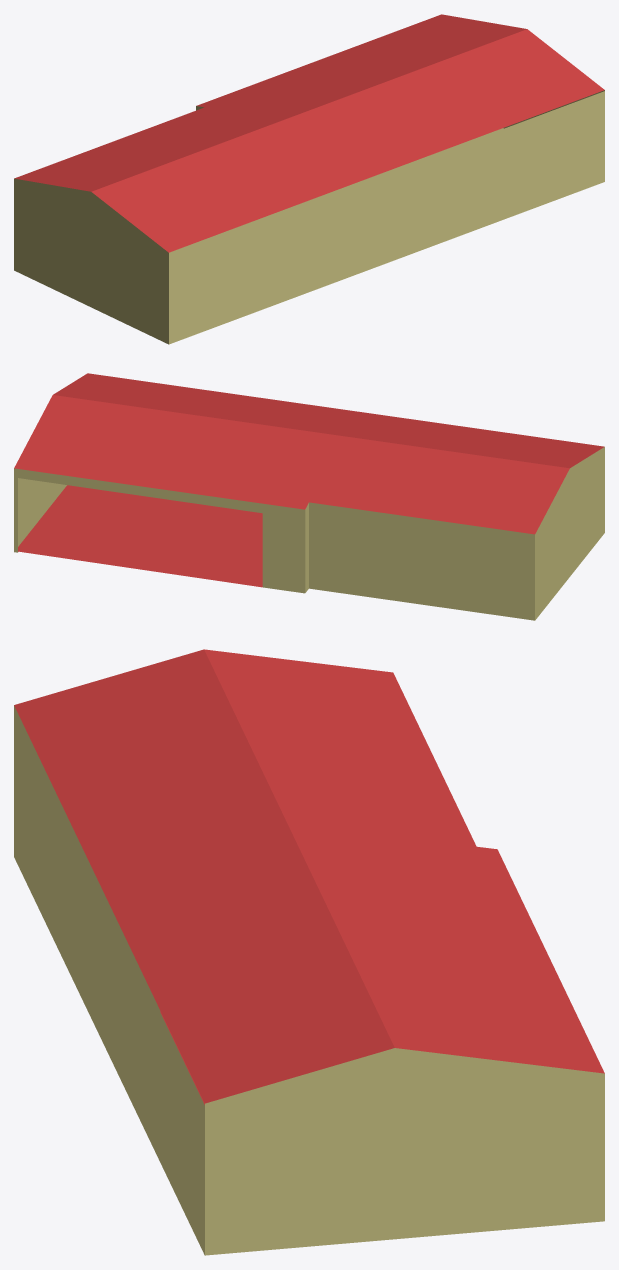
3 views of the same model, one above another, from view 1: azimuth 30°, elevation 25°; view 2: azimuth 150°, elevation 25°; view 3: azimuth 270°, elevation 25° (orthographic). The views are drawn at different scales.
Bounding box in the file's own units: 57.72 × 33.45 × 11.95.
